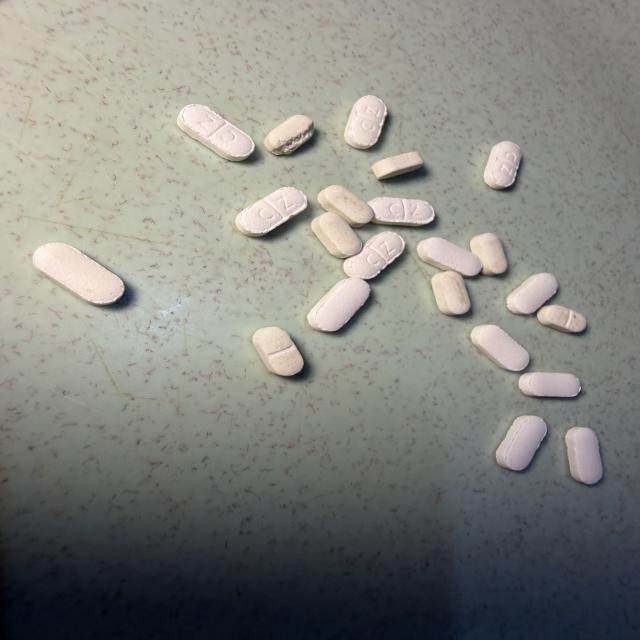pill: (33, 243, 124, 305), (178, 104, 254, 161), (236, 187, 307, 236), (308, 278, 370, 331), (344, 231, 405, 279), (496, 416, 547, 470), (471, 325, 529, 371), (418, 237, 482, 276), (253, 327, 303, 376), (318, 185, 373, 227), (312, 212, 362, 258), (345, 96, 387, 149), (507, 273, 558, 314), (566, 427, 602, 484), (265, 115, 314, 155), (368, 197, 434, 226), (484, 141, 521, 189), (431, 271, 470, 315), (371, 151, 424, 180), (471, 233, 507, 275), (519, 373, 580, 397), (537, 305, 586, 332)
